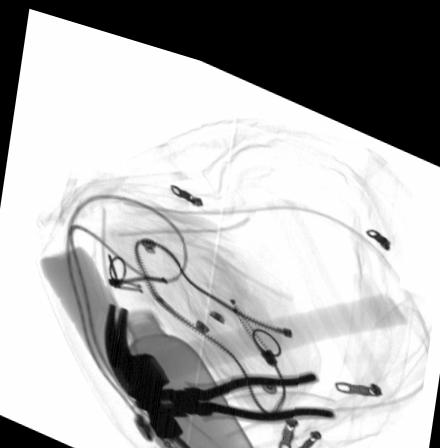Hammer: (104, 270, 409, 429)
Pliers: (128, 352, 338, 411)
